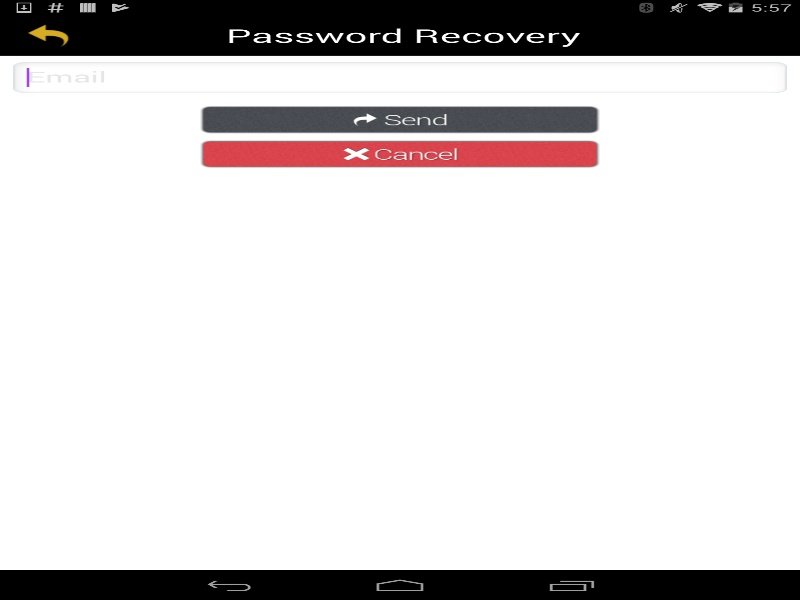Button: (200, 105, 600, 133), (200, 140, 600, 168), (10, 18, 85, 53)
Input: (26, 68, 773, 86)
